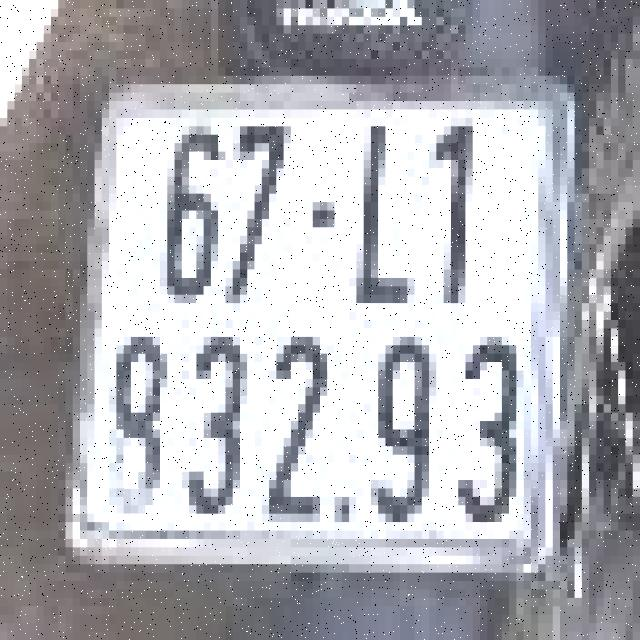1: (429, 101, 495, 312)
2: (254, 329, 334, 522)
3: (178, 329, 251, 522), (465, 329, 531, 522)
6: (156, 105, 229, 316)
7: (229, 118, 295, 328)
8: (95, 320, 167, 522)
9: (356, 324, 444, 535)
L: (338, 114, 426, 307)
